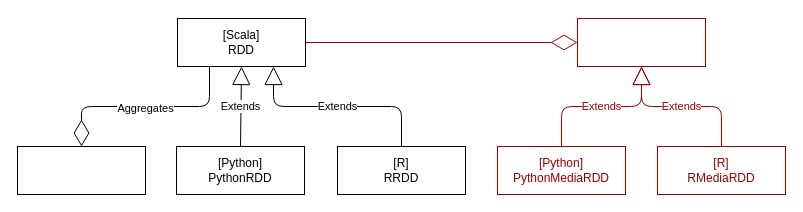
Some shapes in this 803 by 212 pixel diagram are drawn without their labels. The shapes that lost their labels are listed below. From the top down, each one's box as (x1, y1, x2, y2) in pixels, then its label:
(576, 18, 706, 66): [Scala] MediaRDD
(16, 146, 146, 194): [Java] JavaRDD
